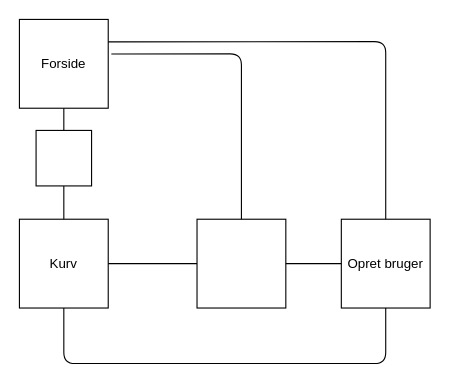
This 450x384 diagram has some shape labels left out. Each missing label, with the centre of its shape:
"Login" belongs at pixel 241 263.
"Vælg varer/læg i kurv" belongs at pixel 63 157.
